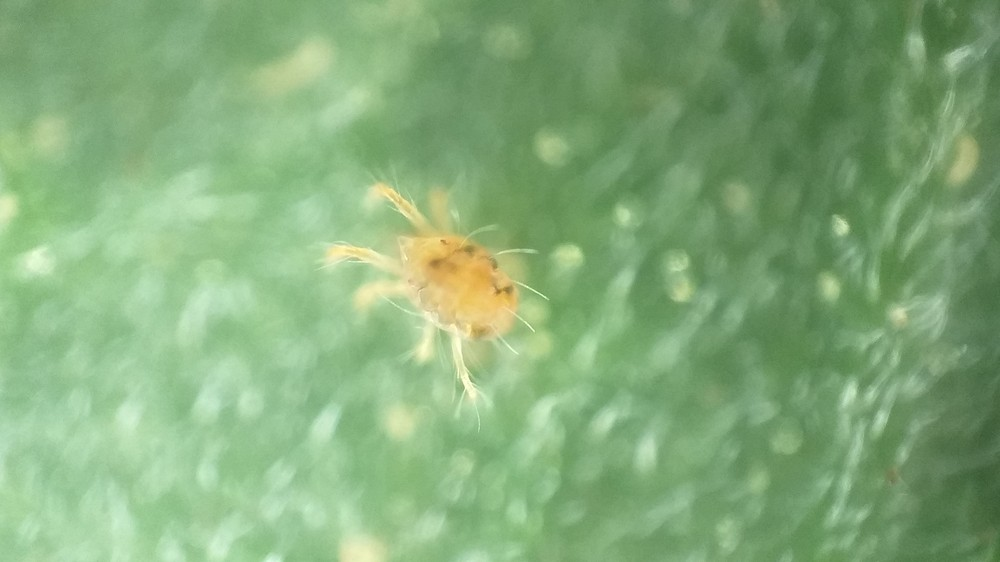Aracnido Rojo: (306, 170, 593, 425)
